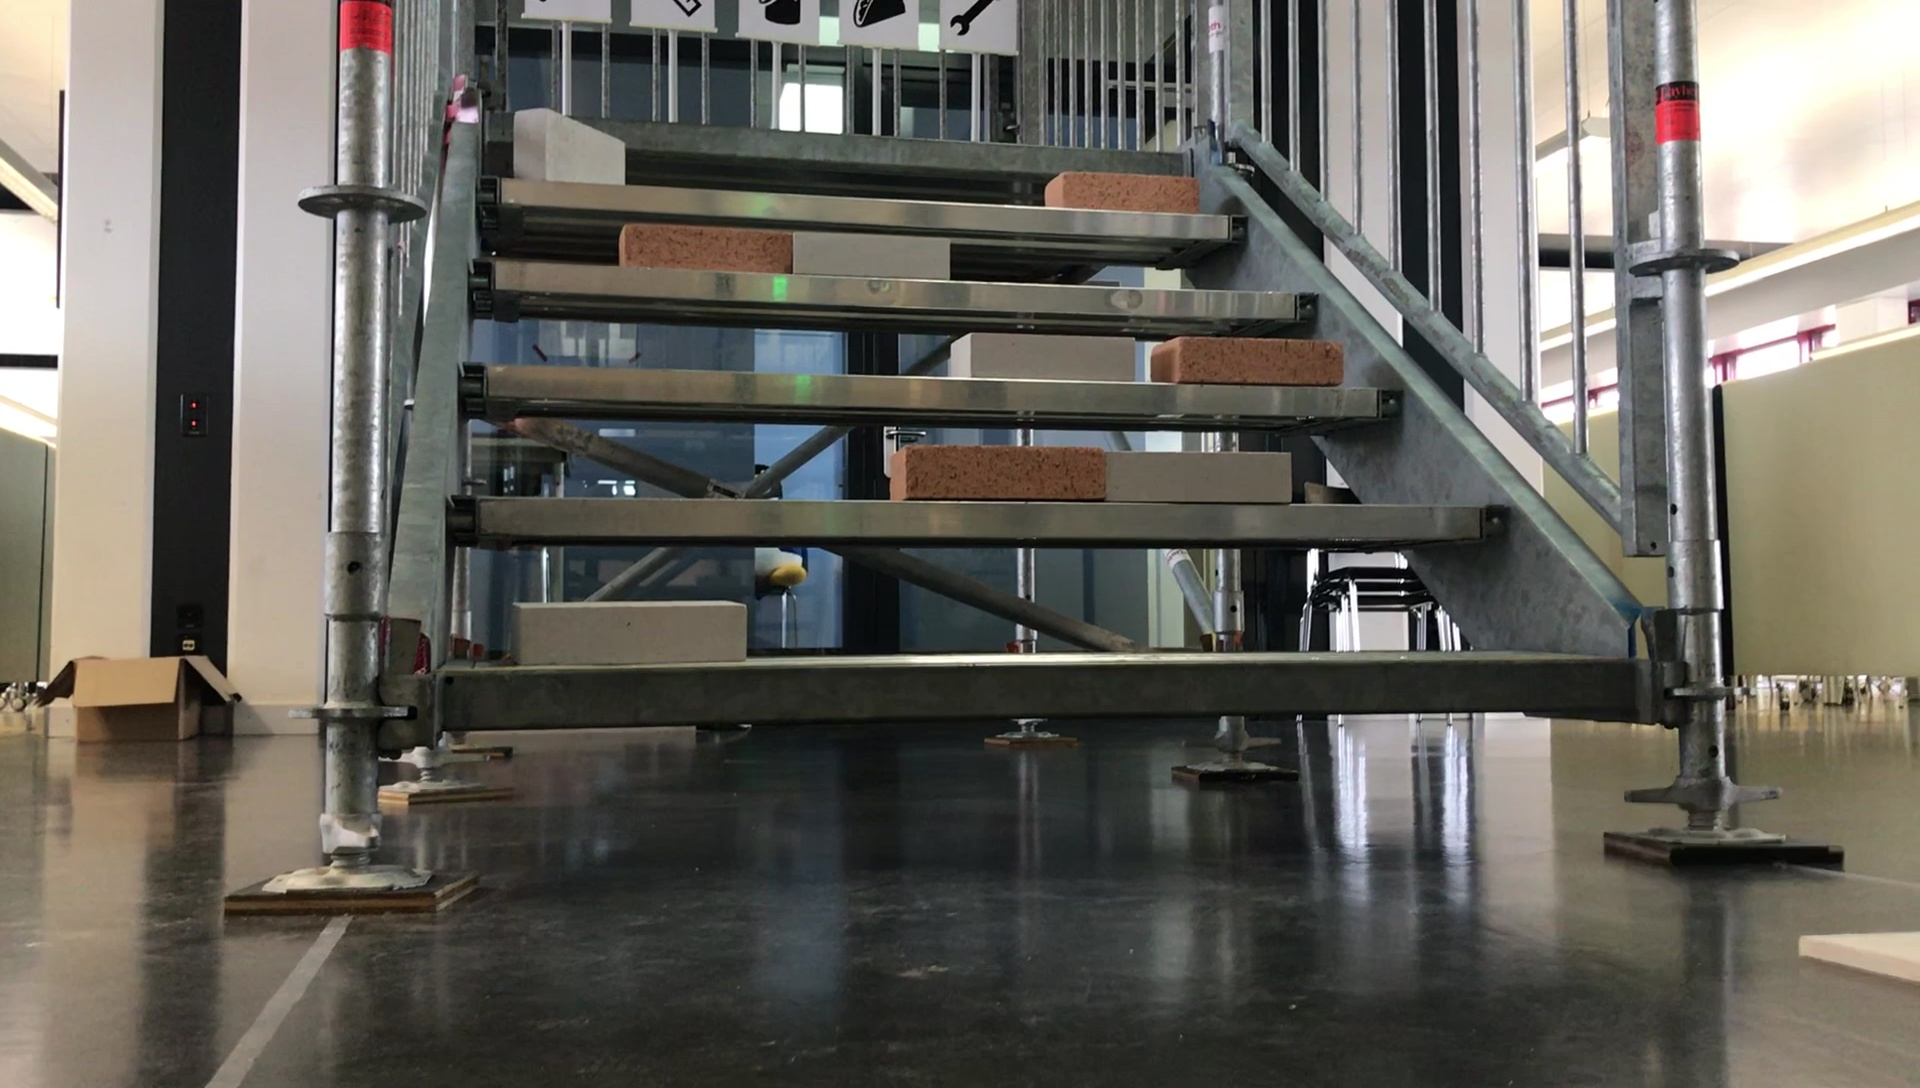brick: (501, 596, 752, 673), (878, 447, 1096, 505), (1089, 443, 1296, 502), (949, 328, 1145, 378), (1158, 334, 1346, 384), (617, 220, 779, 276), (512, 104, 626, 177), (789, 233, 953, 276), (1046, 171, 1197, 208)
edge: (434, 651, 1662, 713), (465, 352, 1398, 421), (487, 177, 1225, 240), (447, 505, 1523, 546), (460, 115, 1204, 160), (475, 262, 1331, 299)
stairs: (313, 0, 1722, 859)
steps: (400, 123, 1689, 723)
taco: (858, 0, 909, 30)
wrench: (951, 0, 1004, 40)
